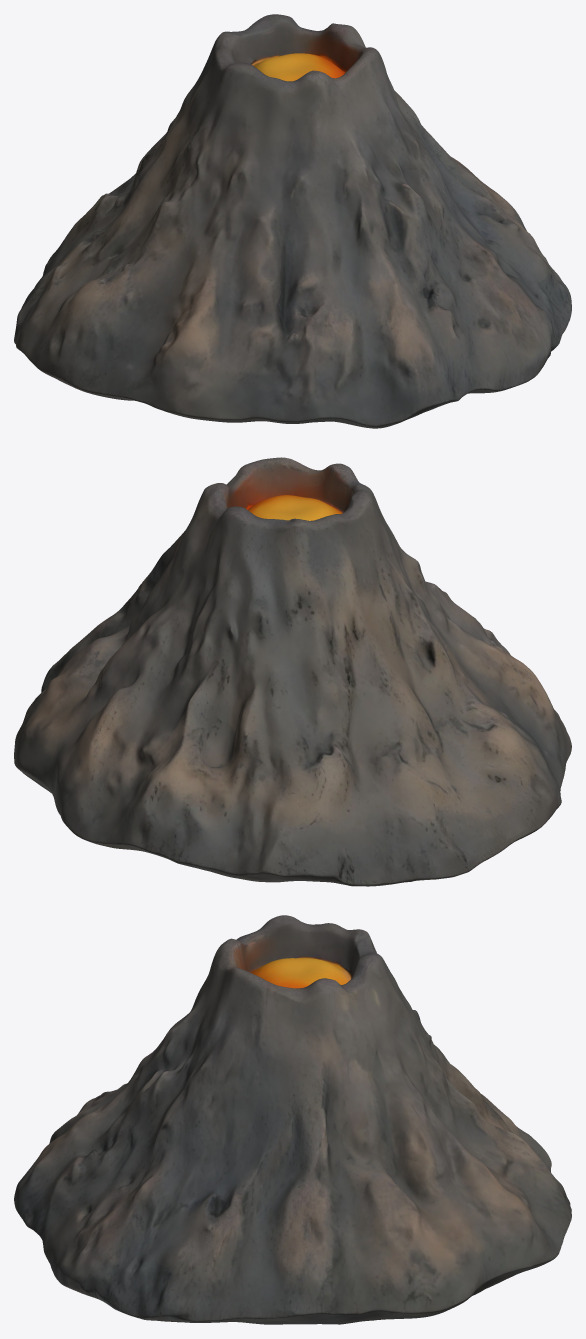
3 renders of one model, top to bottom at view 1: azimuth 30°, elevation 25°; view 2: azimuth 150°, elevation 25°; view 3: azimuth 270°, elevation 25°, orthographic. The views are drawn at different scales.
Parts seen in each view (by area): view 1: tripo_node_e6cad81e-7cad-4395-b703-ae506cd9ff5b; view 2: tripo_node_e6cad81e-7cad-4395-b703-ae506cd9ff5b; view 3: tripo_node_e6cad81e-7cad-4395-b703-ae506cd9ff5b.
Part boxes in pixels (box(x1,y1,x2,y2)): tripo_node_e6cad81e-7cad-4395-b703-ae506cd9ff5b: box(14, 14, 571, 428); tripo_node_e6cad81e-7cad-4395-b703-ae506cd9ff5b: box(14, 457, 571, 886); tripo_node_e6cad81e-7cad-4395-b703-ae506cd9ff5b: box(14, 915, 571, 1324).
Bounding box in the file's own units: 1.03 × 0.5897 × 1.02.
Materials: 1 (1 with a texture image).
